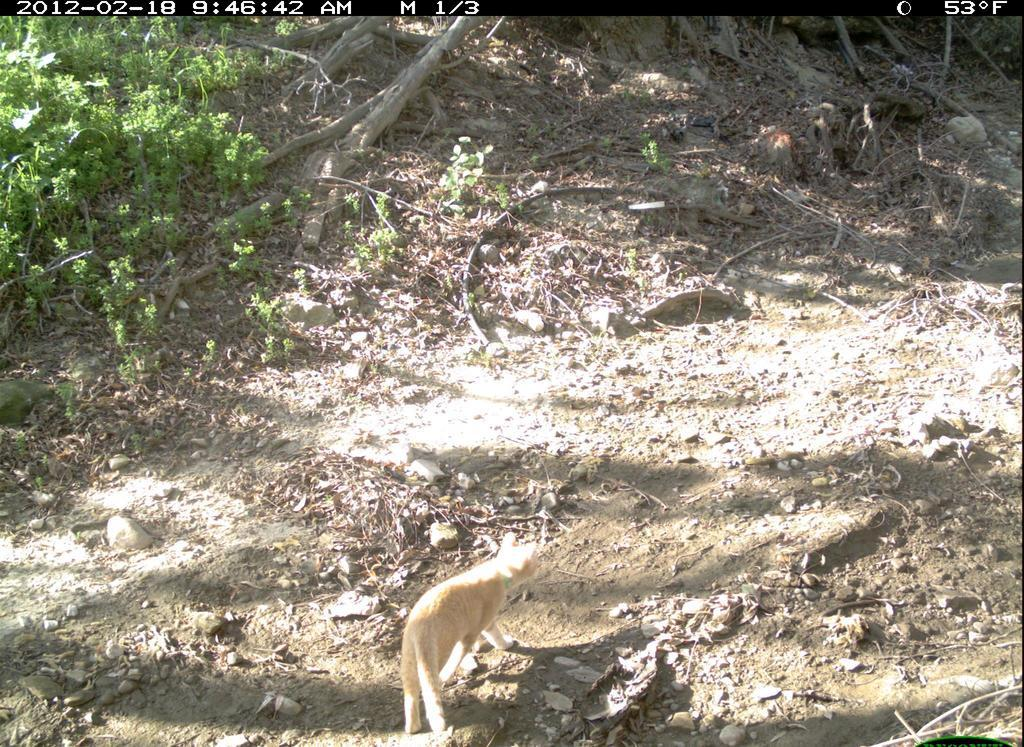cat: (379, 527, 577, 738)
